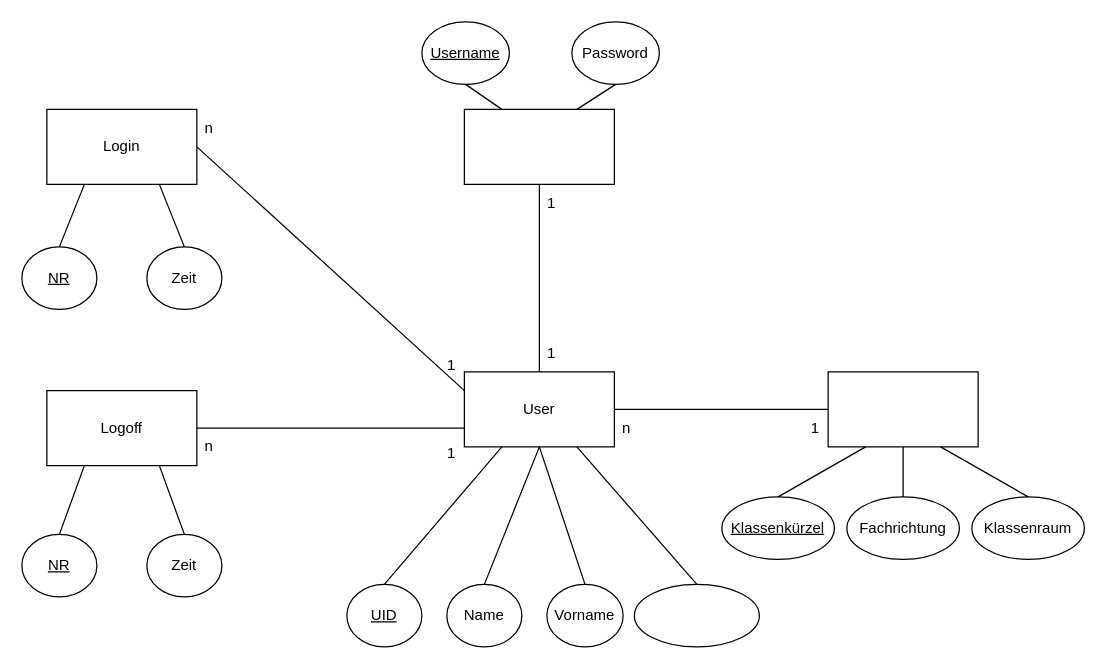
The diagram is 1106 pixels wide and 669 high, and some of its shapes have lost their labels. The shapes that lost their labels are listed below. From the top down, each one's centre as x and y in pixels, then its label:
At pixel 538 146: "Admins".
At pixel 902 409: "Klassen".
At pixel 696 615: "Geburtsdatum".
